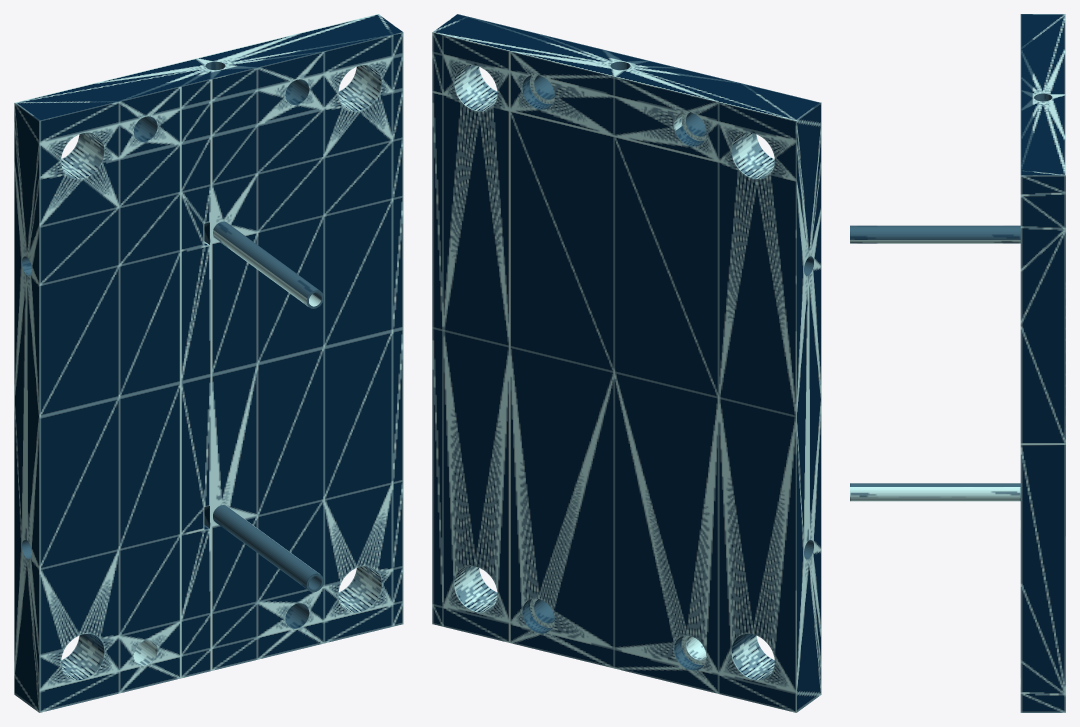
The model's file is Mold4-Bottom clamping plate-M.glb.
3 renders of one model, left to right at view 1: azimuth 30°, elevation 25°; view 2: azimuth 150°, elevation 25°; view 3: azimuth 270°, elevation 25°, orthographic. The views are drawn at different scales.
Visible parts, largest first — view 1: GERGTGQ - SEMELLEINF2-1; view 2: GERGTGQ - SEMELLEINF2-1; view 3: GERGTGQ - SEMELLEINF2-1.
Boxes of the visible parts, bbox=[...] form: GERGTGQ - SEMELLEINF2-1: bbox=[14, 14, 403, 712]; GERGTGQ - SEMELLEINF2-1: bbox=[432, 14, 821, 712]; GERGTGQ - SEMELLEINF2-1: bbox=[850, 14, 1065, 712].
Bounding box in the file's own units: 5.98 × 9.29 × 3.38.
1 material, 1 textured.
